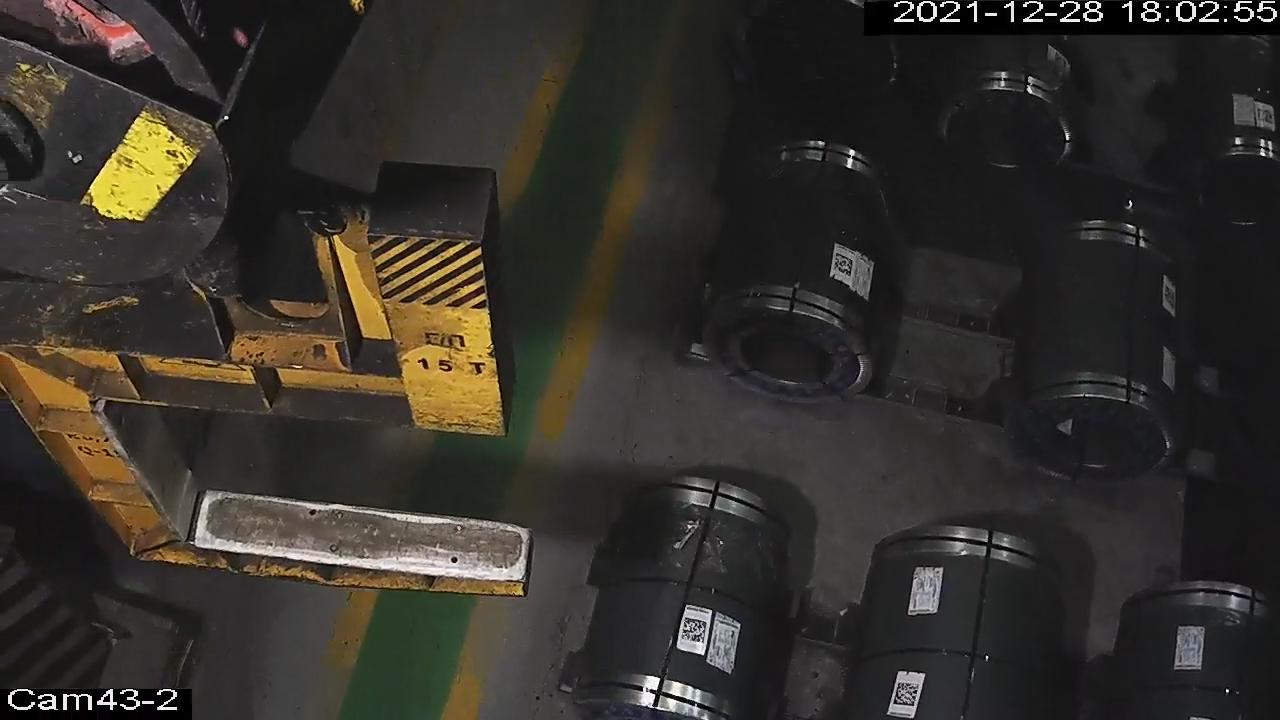data matrix: (892, 680, 922, 710), (681, 616, 709, 646), (833, 252, 855, 279), (1257, 107, 1276, 127)
